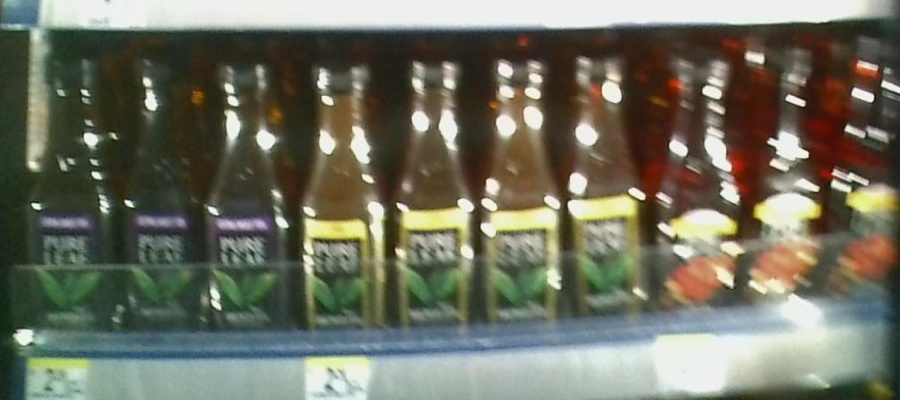bottle: (115, 46, 202, 341), (295, 62, 385, 346), (204, 55, 291, 346), (24, 54, 112, 336), (565, 50, 651, 337), (479, 51, 562, 345), (390, 57, 474, 344), (656, 51, 740, 326), (745, 38, 821, 307), (828, 40, 894, 295)
